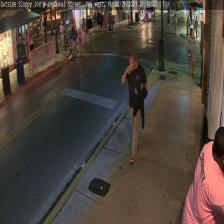person: (121, 51, 147, 164)
